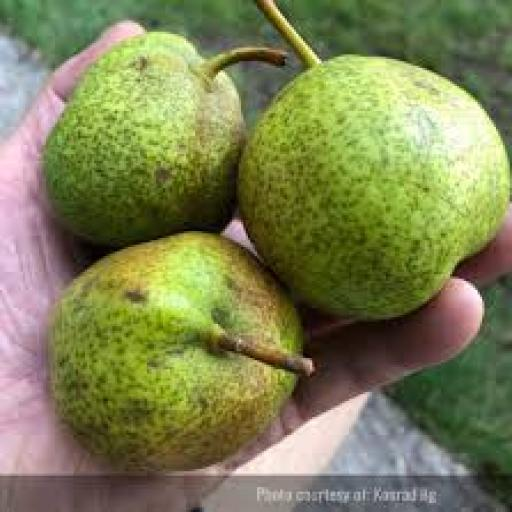Pear: (51, 234, 312, 471), (44, 32, 284, 246)
